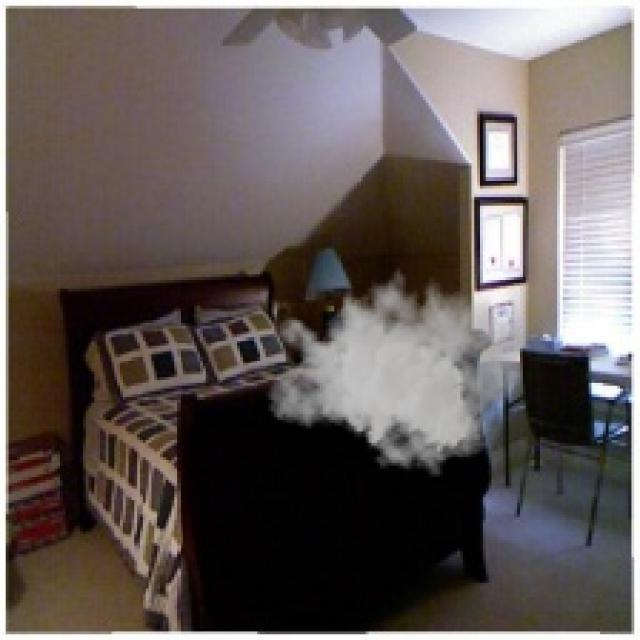Smoke: (266, 257, 523, 477)
